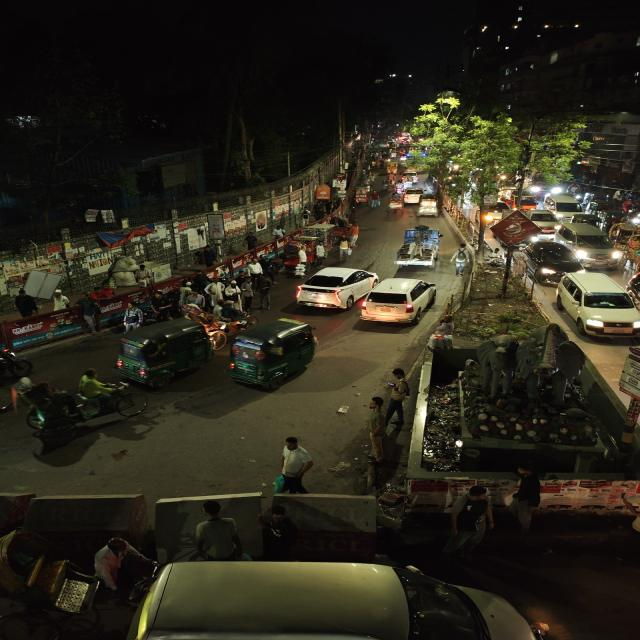bicycle: (448, 243, 473, 277)
car: (551, 270, 640, 336), (358, 274, 439, 328), (291, 265, 379, 309), (556, 223, 623, 265), (524, 241, 584, 277), (525, 209, 563, 233), (544, 196, 584, 214), (402, 188, 422, 205)
cng: (225, 318, 321, 392), (113, 320, 214, 390), (418, 193, 442, 218)
pedestrian: (440, 484, 495, 562), (192, 500, 246, 562), (269, 432, 319, 494), (360, 397, 392, 468), (384, 365, 412, 427), (507, 465, 541, 511), (205, 276, 244, 311), (72, 292, 102, 335), (428, 314, 460, 351), (182, 270, 212, 303), (248, 274, 275, 308), (448, 243, 473, 277), (151, 290, 178, 321), (121, 302, 143, 332), (309, 240, 330, 266), (246, 256, 267, 280), (336, 237, 355, 260), (368, 190, 383, 210)
pickup_van: (392, 224, 446, 270)
rickshaw: (17, 366, 152, 447), (278, 244, 309, 277), (613, 221, 640, 257), (324, 217, 350, 243), (623, 230, 640, 266), (386, 194, 404, 216)
